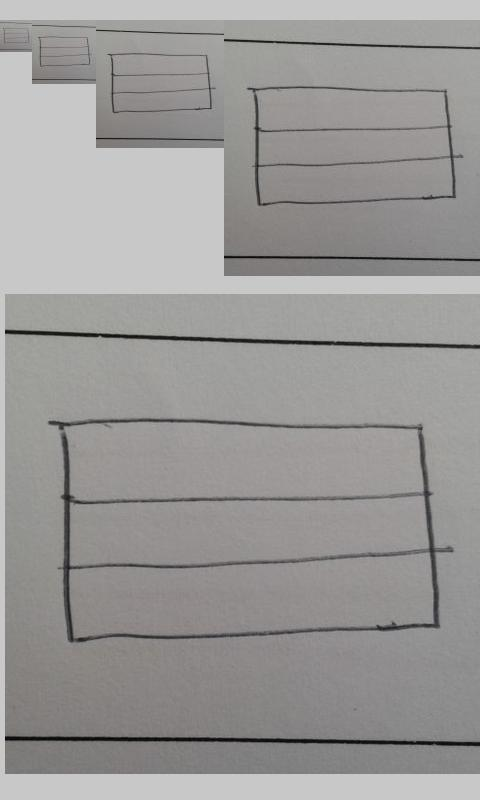list_view: (59, 414, 442, 648), (251, 85, 458, 207), (109, 52, 213, 114), (37, 35, 91, 67), (3, 27, 30, 44)
